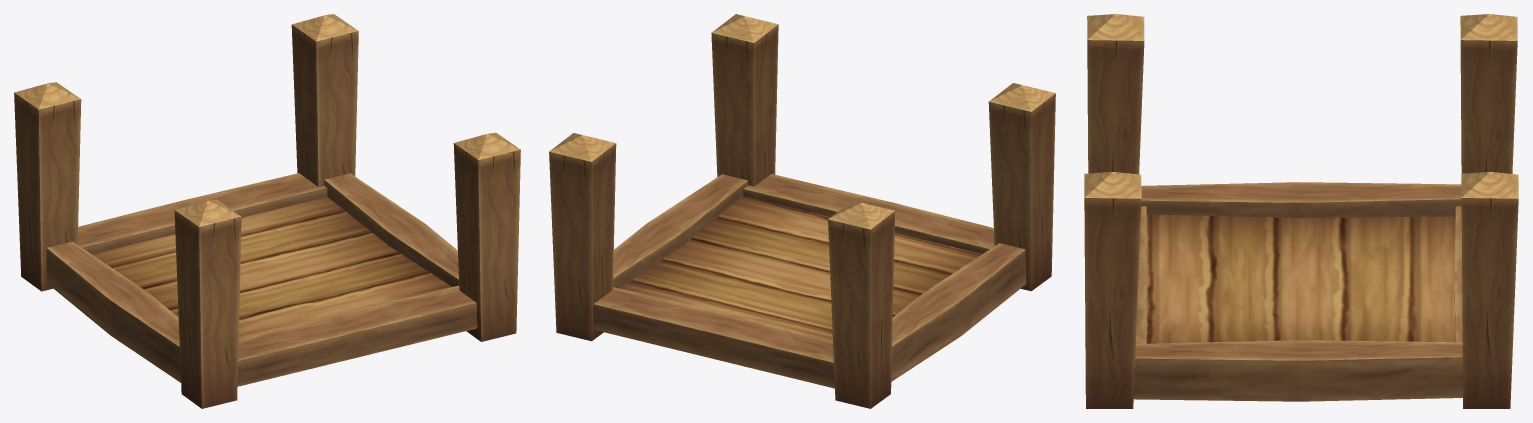
Rendered from bridge_02_tile_06.fbx.
The picture shows the model from 3 angles, left to right: view 1: azimuth 30°, elevation 25°; view 2: azimuth 150°, elevation 25°; view 3: azimuth 270°, elevation 25°; orthographic projection. The views are drawn at different scales.
Visible parts, largest first — view 1: bridge_02_tile_06Mesh; view 2: bridge_02_tile_06Mesh; view 3: bridge_02_tile_06Mesh.
Part boxes in pixels (x1,y1,x2,y2): bridge_02_tile_06Mesh: (14,14,520,408); bridge_02_tile_06Mesh: (549,14,1055,408); bridge_02_tile_06Mesh: (1084,14,1518,408).
Size of the model in its own units: 2.05 by 1.19 by 2.07.
